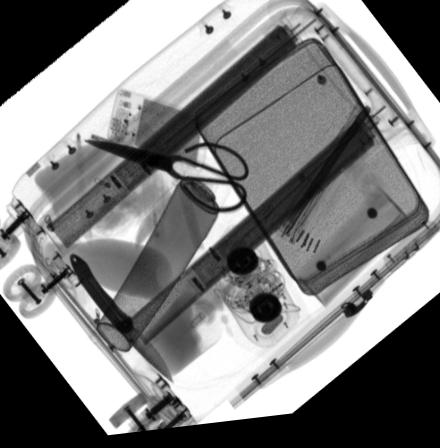Knife: (68, 254, 173, 388)
Powerbank: (107, 89, 208, 175)
Scissors: (83, 139, 249, 219)
Sprayer: (95, 164, 234, 355)
